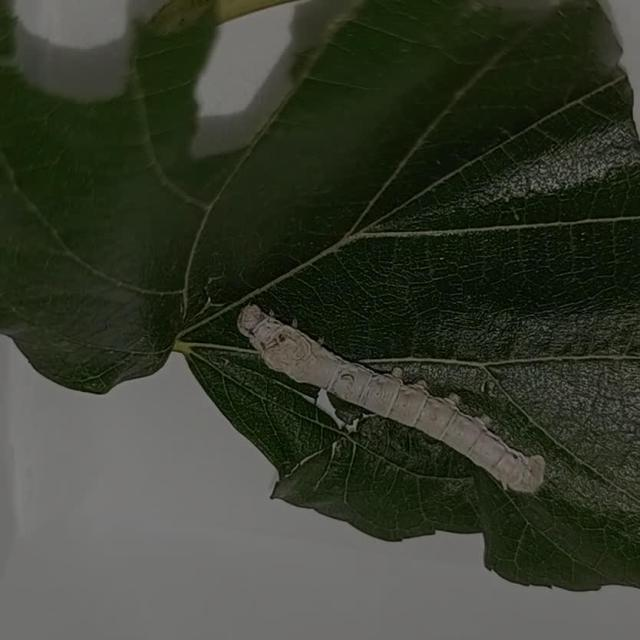Healthy: (208, 262, 576, 541)
